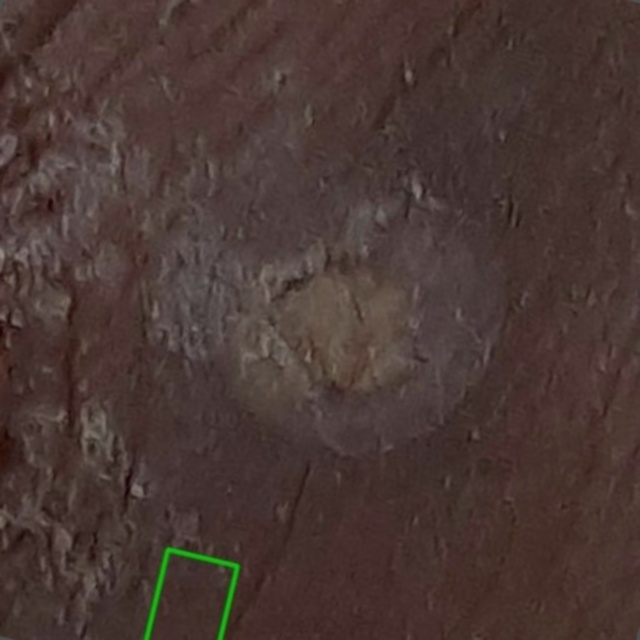Eczema: (146, 549, 237, 639)
